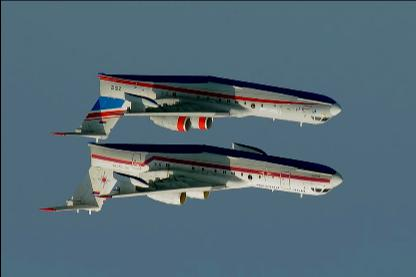B52: (38, 140, 342, 214), (50, 73, 342, 142)
